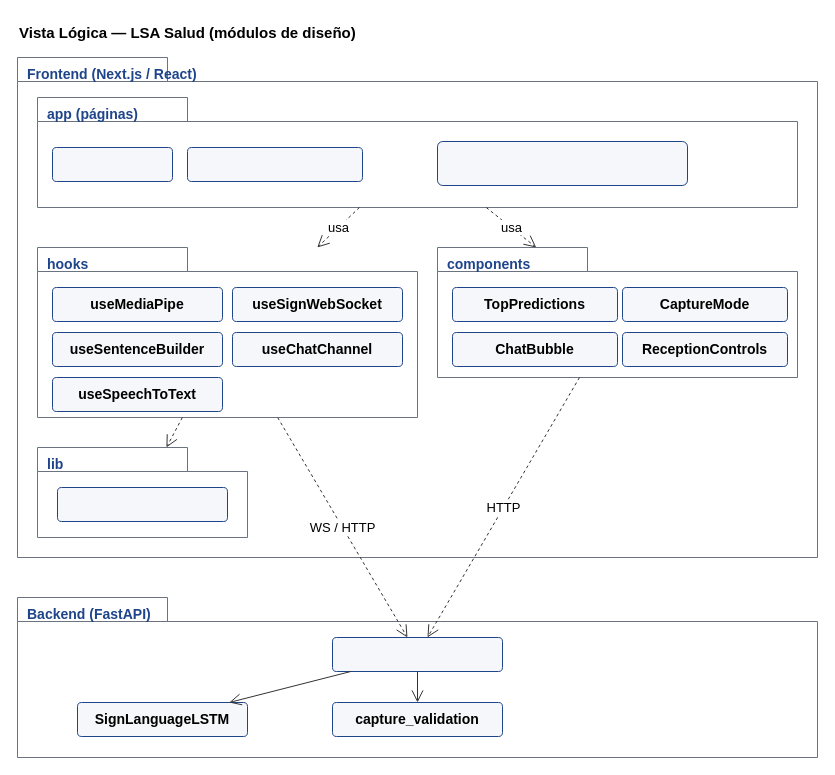
The diagram is 835 pixels wide and 775 high, and some of its shapes have lost their labels. Here are the shapes that lost their labels. From the top down, the centre of each, then its label:
pixel 112 164: page (P-01)
pixel 274 164: recepcion/page (P-03)
pixel 562 163: paciente/page (P-02, incluye diálogo de consentimiento P-05)
pixel 142 504: mediapipe.ts
pixel 417 654: app.py
